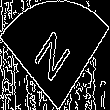N_SW: (32, 22, 78, 88)
